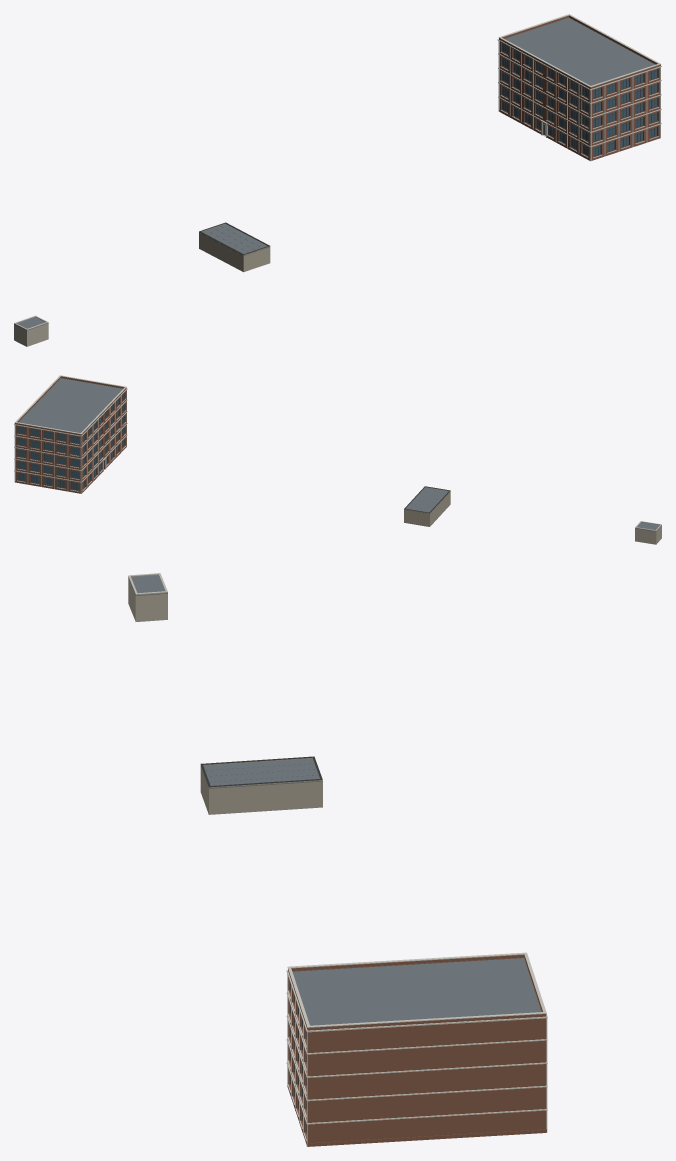
The model's file is replacement.glb.
3 views of the same model, one above another, from view 1: azimuth 30°, elevation 25°; view 2: azimuth 150°, elevation 25°; view 3: azimuth 270°, elevation 25° (orthographic). The views are drawn at different scales.
Visible parts, largest first — view 1: University wing 640976478 | pierced red brick facades, University wing 640976478 | complete concave roof deck, University wing 640976478 | recessed university casements, University wing 640976478 | shallow vertical facade piers, University wing 640976478 | plain eaves and floor course, University wing 640976478 | metal casement frames, Service building788306098 | continuous closed masonry perime, University wing 640976478 | paired casement mullions, Service building788306098 | complete thin roof slab, University wing 640976478 | stone window sills, University wing 640976478 | subtle brick headers, University wing 640976478 | stone parapet coping (+2 smaller); view 2: University wing 640976478 | pierced red brick facades, University wing 640976478 | complete concave roof deck, University wing 640976478 | recessed university casements, University wing 640976478 | shallow vertical facade piers, University wing 640976478 | plain eaves and floor course, University wing 640976478 | metal casement frames, Service building788306098 | complete thin roof slab, Service building788306098 | continuous closed masonry perime, University wing 640976478 | stone window sills, University wing 640976478 | paired casement mullions, University wing 640976478 | subtle brick headers, University wing 640976478 | stone parapet coping (+2 smaller); view 3: University wing 640976478 | pierced red brick facades, University wing 640976478 | complete concave roof deck, University wing 640976478 | plain eaves and floor course, Service building788306098 | continuous closed masonry perime, Service building788306098 | complete thin roof slab, University wing 640976478 | stone parapet coping, University wing 640976478 | red brick roof parapet, University wing 640976478 | plain brick plinth, Mews outbuilding1154608372 | continuous closed masonry perim, University wing 640976478 | shallow vertical facade piers.
Part boxes in pixels (x1,y1,x2,y2): University wing 640976478 | pierced red brick facades: (499,17,659,158); University wing 640976478 | complete concave roof deck: (505,17,655,85); University wing 640976478 | recessed university casements: (502,43,657,156); University wing 640976478 | shallow vertical facade piers: (498,41,660,160); University wing 640976478 | plain eaves and floor course: (497,39,661,147); University wing 640976478 | metal casement frames: (501,43,657,156); Service building788306098 | continuous closed masonry perime: (199,233,270,271); University wing 640976478 | paired casement mullions: (504,44,654,155); Service building788306098 | complete thin roof slab: (199,224,269,255); University wing 640976478 | stone window sills: (500,52,659,158); University wing 640976478 | subtle brick headers: (500,42,658,147); University wing 640976478 | stone parapet coping: (498,14,660,87); University wing 640976478 | pierced red brick facades: (15,378,126,491); University wing 640976478 | complete concave roof deck: (18,378,122,432); University wing 640976478 | recessed university casements: (17,393,124,490); University wing 640976478 | shallow vertical facade piers: (14,390,126,493); University wing 640976478 | plain eaves and floor course: (14,388,127,482); University wing 640976478 | metal casement frames: (17,392,124,490); Service building788306098 | complete thin roof slab: (405,487,450,513); Service building788306098 | continuous closed masonry perime: (404,492,450,526); University wing 640976478 | stone window sills: (16,399,126,491); University wing 640976478 | paired casement mullions: (20,393,123,489); University wing 640976478 | subtle brick headers: (16,391,126,483); University wing 640976478 | stone parapet coping: (14,375,126,434); University wing 640976478 | pierced red brick facades: (288,957,546,1143); University wing 640976478 | complete concave roof deck: (292,958,541,1025); University wing 640976478 | plain eaves and floor course: (286,970,547,1124); Service building788306098 | continuous closed masonry perime: (200,767,322,814); Service building788306098 | complete thin roof slab: (200,758,322,788); University wing 640976478 | stone parapet coping: (287,952,546,1027); University wing 640976478 | red brick roof parapet: (288,954,546,1030); University wing 640976478 | plain brick plinth: (287,1086,546,1146); Mews outbuilding1154608372 | continuous closed masonry perim: (128,578,167,621); University wing 640976478 | shallow vertical facade piers: (287,974,547,1146).
Size of the model in its own units: 164 by 16.78 by 53.22.
